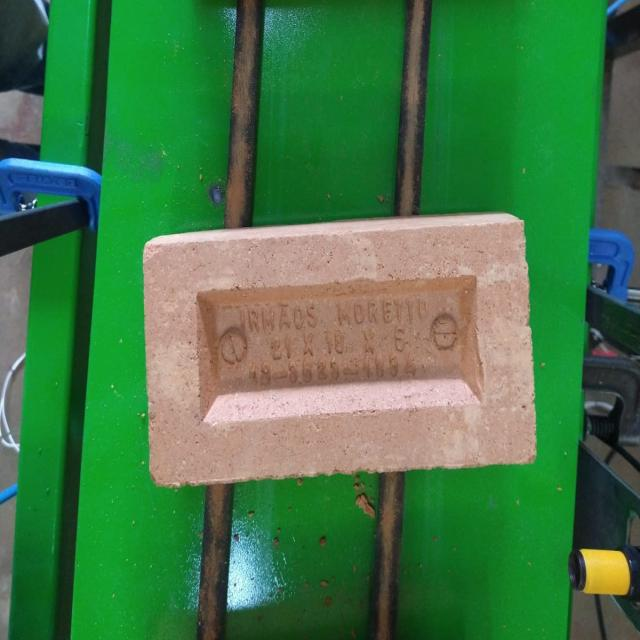bricks: (145, 214, 533, 487)
